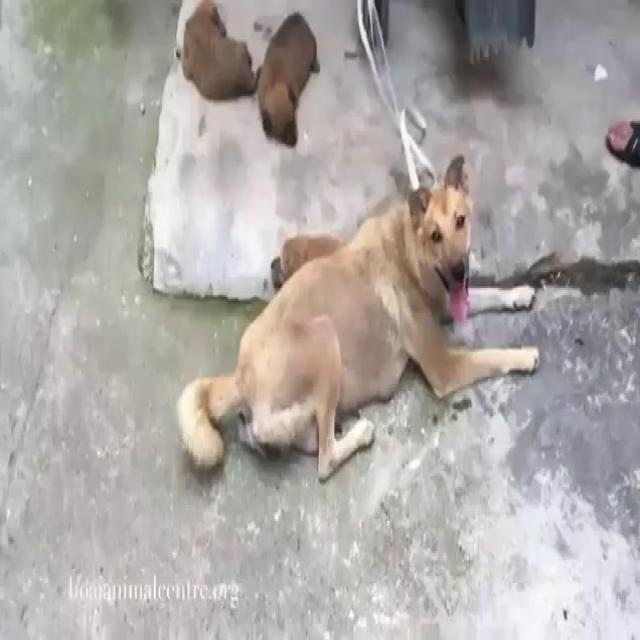normal_animals: (174, 148, 540, 486)
